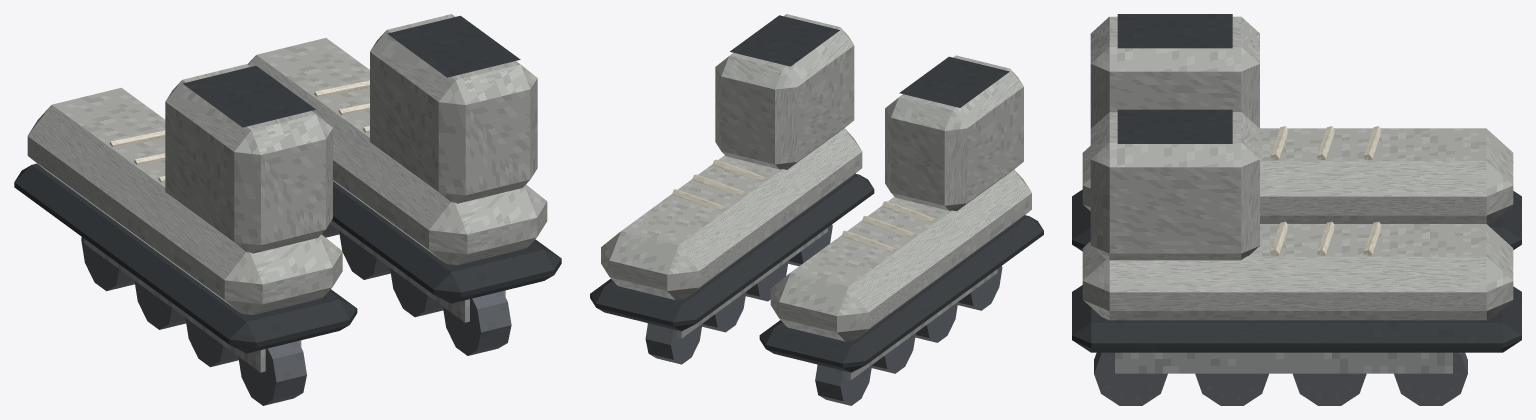
Rendered from roller_blades.glb.
The picture shows the model from 3 angles, left to right: view 1: azimuth 30°, elevation 25°; view 2: azimuth 150°, elevation 25°; view 3: azimuth 270°, elevation 25°; orthographic projection. The views are drawn at different scales.
Parts seen in each view (by area): view 1: block_stitched vamp (×2), block_open ankle (×2), block_shaped sole (×2), block_urethane wheel (×7), block_insole opening (×2), block_wheel frame (×2); view 2: block_stitched vamp (×2), block_open ankle (×2), block_shaped sole (×2), block_urethane wheel (×8), block_insole opening (×2), block_wheel frame (×2); view 3: block_stitched vamp (×2), block_open ankle (×2), block_shaped sole (×2), block_urethane wheel (×4), block_insole opening (×2), block_wheel frame.
Part boxes in pixels (left/top/right/bottom): block_stitched vamp (×2): left=27, top=38, right=547, bottom=315; block_open ankle (×2): left=165, top=14, right=537, bottom=253; block_shaped sole (×2): left=14, top=163, right=561, bottom=353; block_urethane wheel (×7): left=81, top=231, right=511, bottom=405; block_insole opening (×2): left=183, top=15, right=520, bottom=127; block_wheel frame (×2): left=84, top=220, right=505, bottom=372; block_stitched vamp (×2): left=601, top=128, right=1031, bottom=341; block_open ankle (×2): left=715, top=14, right=1023, bottom=211; block_shaped sole (×2): left=590, top=173, right=1043, bottom=372; block_urethane wheel (×8): left=645, top=224, right=1002, bottom=405; block_insole opening (×2): left=730, top=15, right=1009, bottom=107; block_wheel frame (×2): left=647, top=227, right=997, bottom=379; block_stitched vamp (×2): left=1082, top=128, right=1513, bottom=320; block_open ankle (×2): left=1090, top=16, right=1259, bottom=260; block_shaped sole (×2): left=1072, top=189, right=1521, bottom=352; block_urethane wheel (×4): left=1094, top=352, right=1467, bottom=405; block_insole opening (×2): left=1117, top=14, right=1232, bottom=143; block_wheel frame: left=1115, top=352, right=1452, bottom=373.
Size of the model in its own units: 0.3679 by 0.3007 by 0.4505.
Materials: 1 (1 with a texture image).
